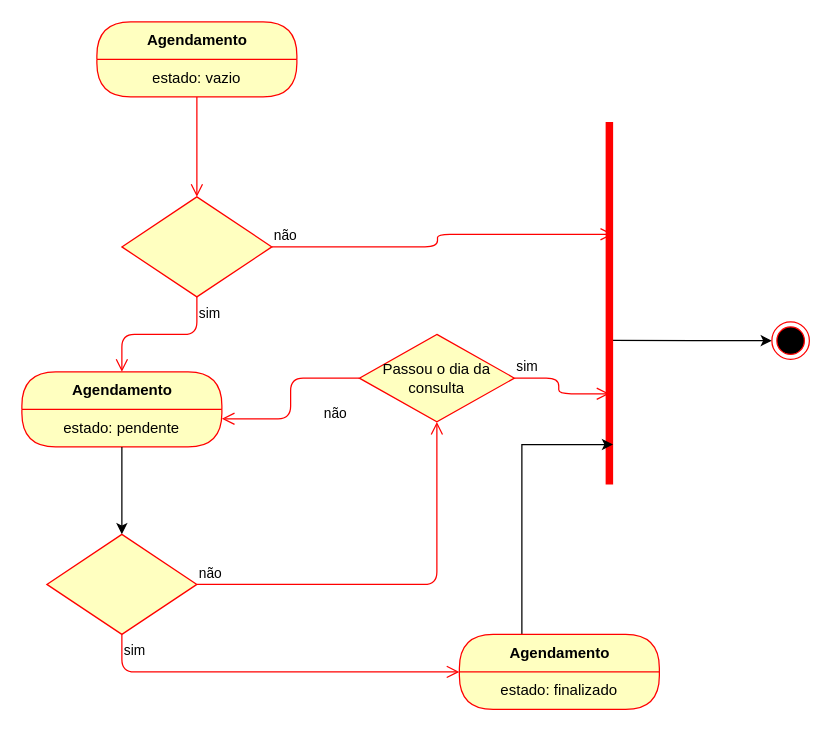
The diagram is 831 pixels wide and 731 high, and some of its shapes have lost their labels. The centre of each missing label's shape, as x and y in pixels:
Paciente agendou consulta?: point 196,246
Paciente Compareceu?: point 121,583
